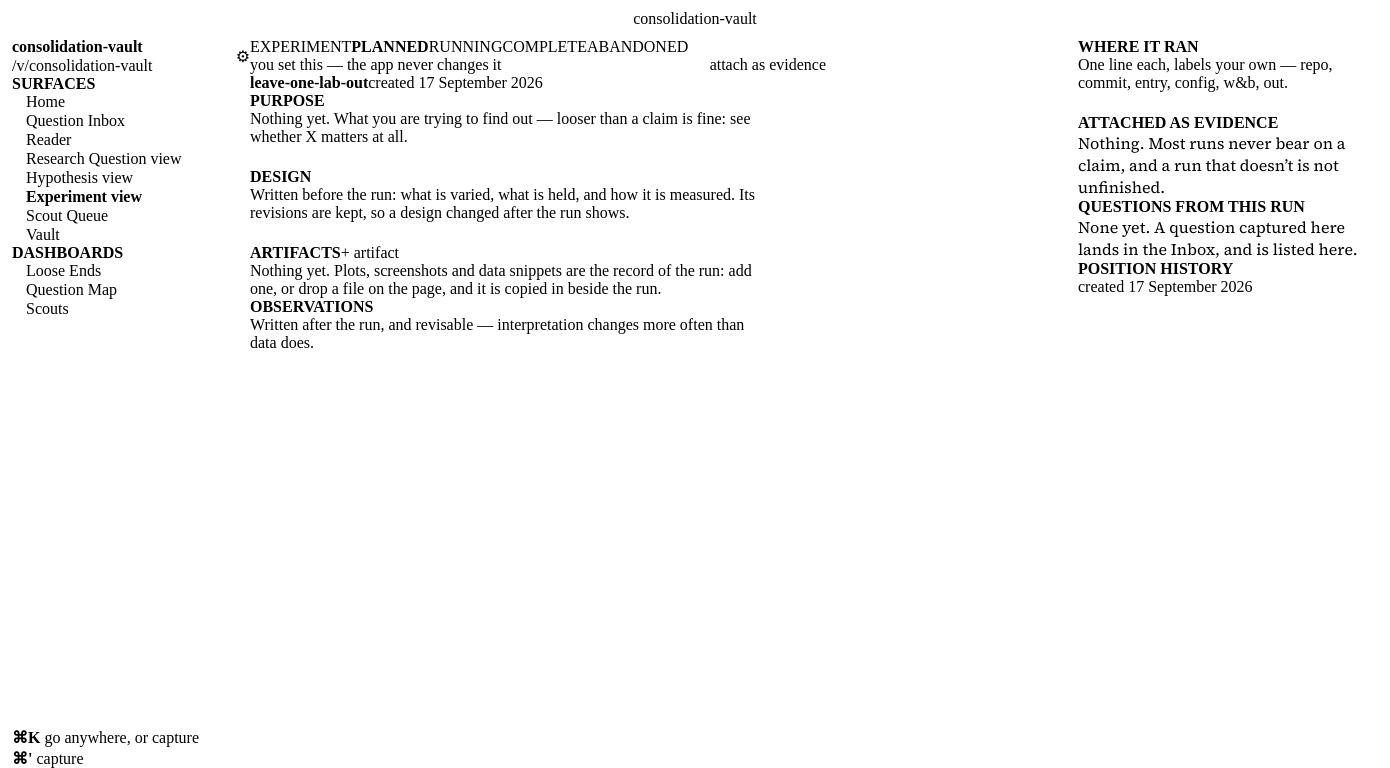
Test: the page of a run designed but not yet run › says a status chip whose write throws the same way
Expected: the element named "Status" is shown, top-left (351, 38), bottom-right (688, 56)
Click the radio button labelled "running" at {"x": 466, "y": 47}, box top-left (429, 38), bottom-right (502, 56)
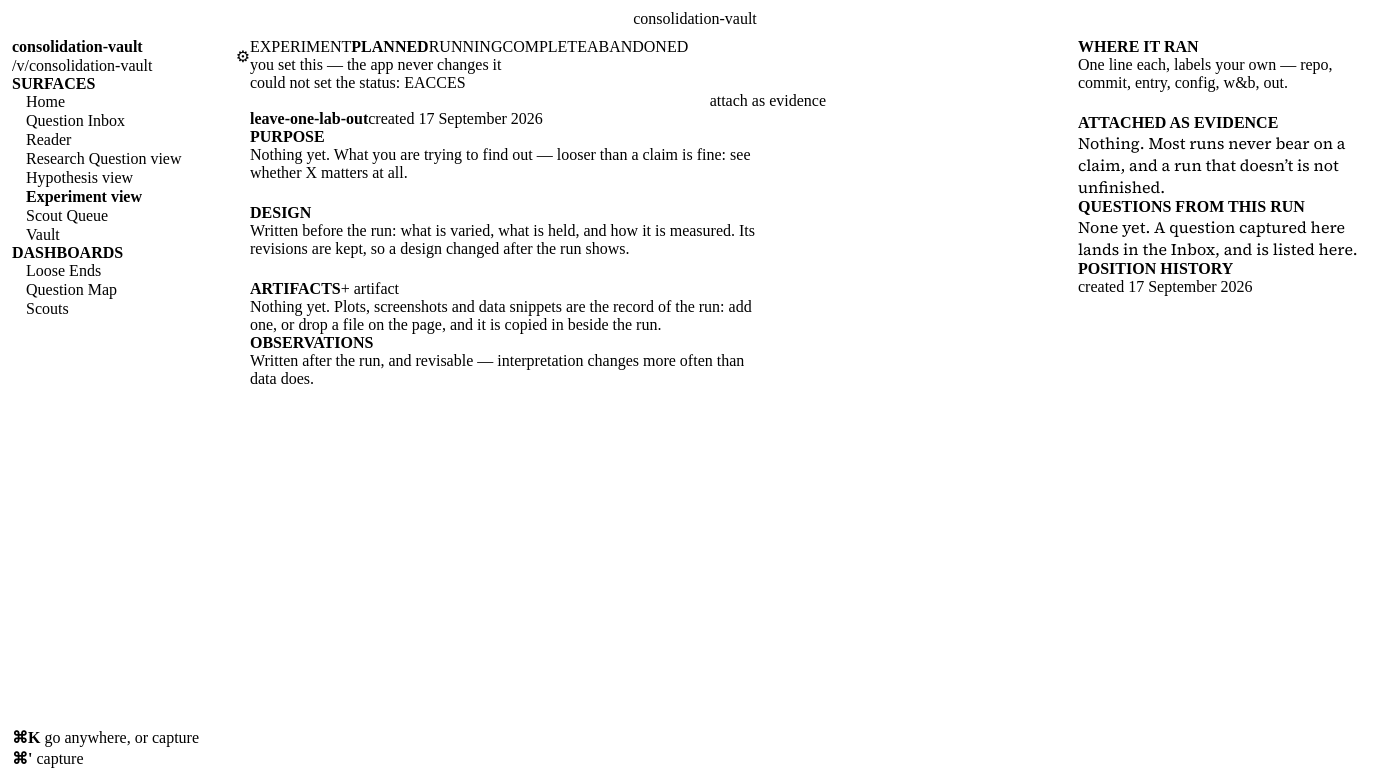
Expected: the message reads "could not set the status: EACCES", top-left (250, 74), bottom-right (466, 91)
